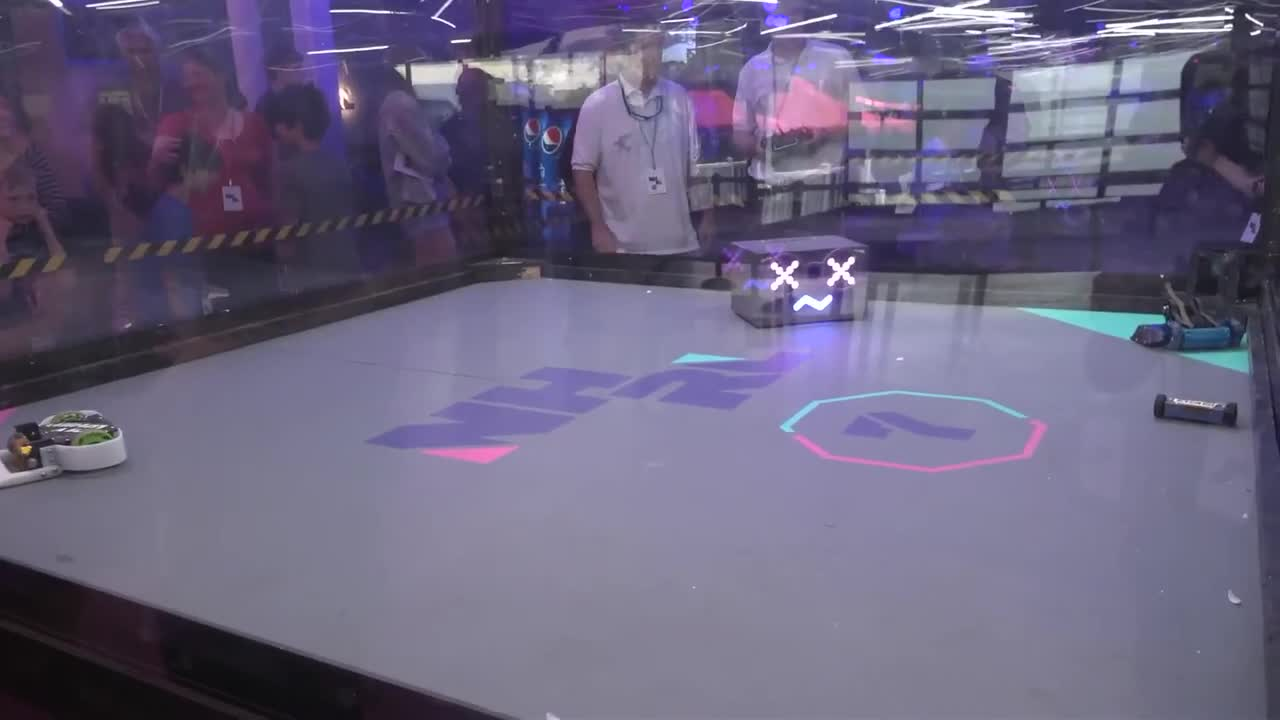combatbot: (0, 410, 131, 490), (1131, 303, 1250, 355)
housebot: (729, 235, 871, 328)
minibot: (1153, 391, 1238, 432)
